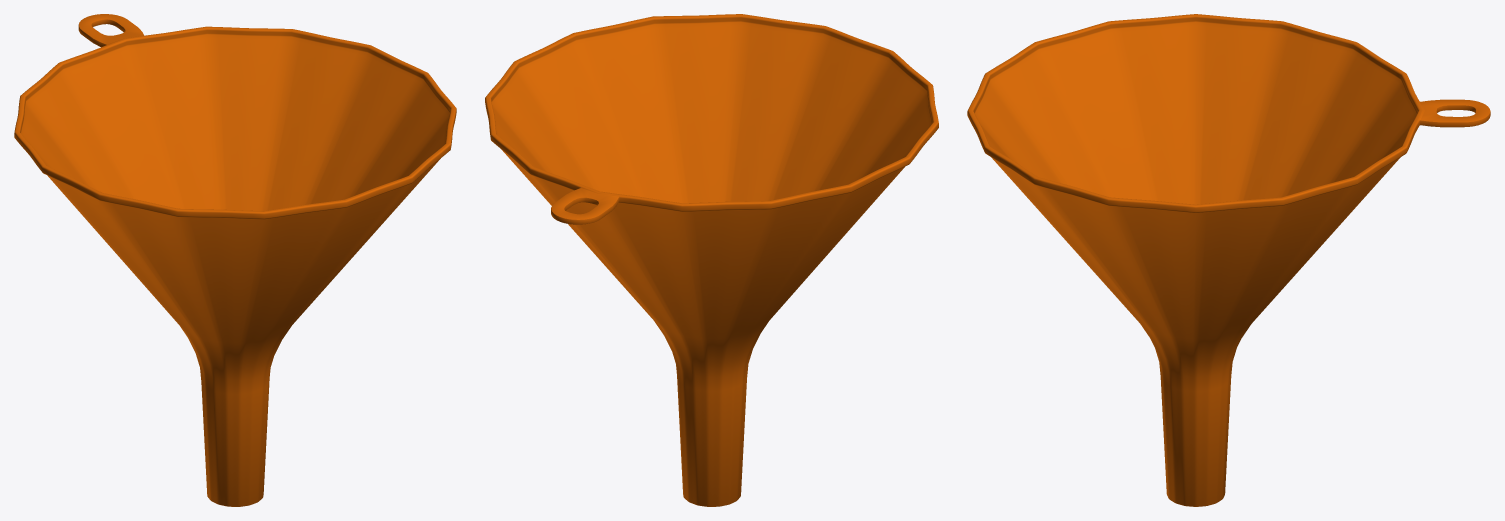
3 renders of one model, left to right at view 1: azimuth 30°, elevation 25°; view 2: azimuth 150°, elevation 25°; view 3: azimuth 270°, elevation 25°, orthographic. The views are drawn at different scales.
Parts seen in each view (by area): view 1: part_000_Molded_funnel_body; view 2: part_000_Molded_funnel_body; view 3: part_000_Molded_funnel_body.
Boxes of the visible parts, x1=… form: part_000_Molded_funnel_body: x1=14, y1=14, x2=456, y2=506; part_000_Molded_funnel_body: x1=485, y1=14, x2=938, y2=506; part_000_Molded_funnel_body: x1=967, y1=14, x2=1490, y2=506.
Bounding box in the file's own units: 0.112 × 0.1041 × 0.1282.
